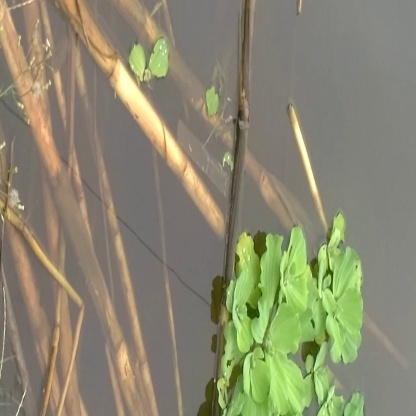leaf: (209, 218, 358, 416)
